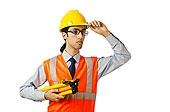helmet: (58, 9, 90, 31)
wear: (42, 55, 98, 112)
